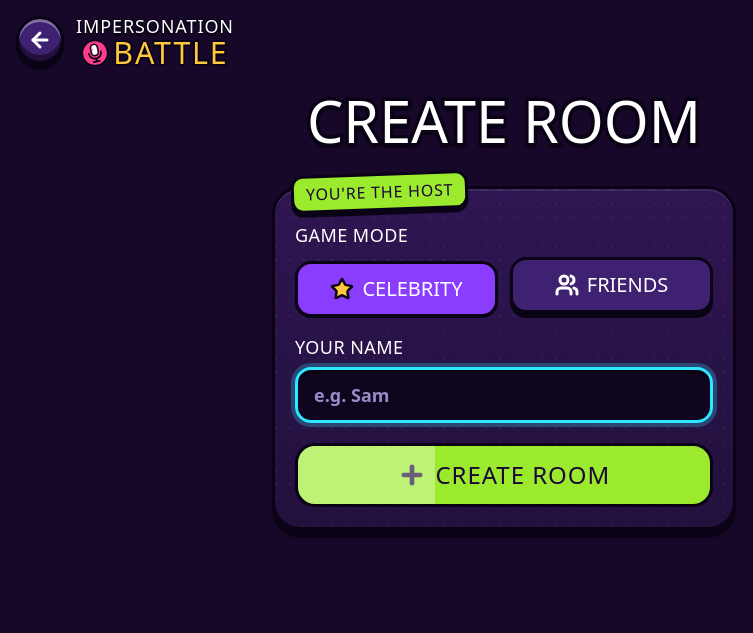
Test: CreateRoomPage › uses the mode picked on the main menu, requires a name, then reports server errors
Click the button "Create Room".
click(504, 475)  # box [295,443,713,507]
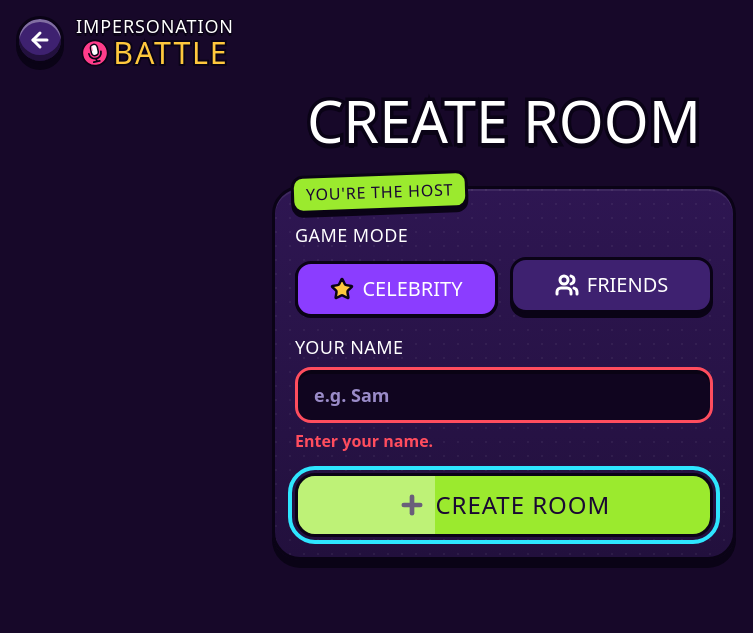
Check: the text "Enter your name." is shown, box [295,430,433,452]
Type "Sam" into the field labelled "Your name".
click(504, 395); type("Sam")  # box [295,367,713,423]
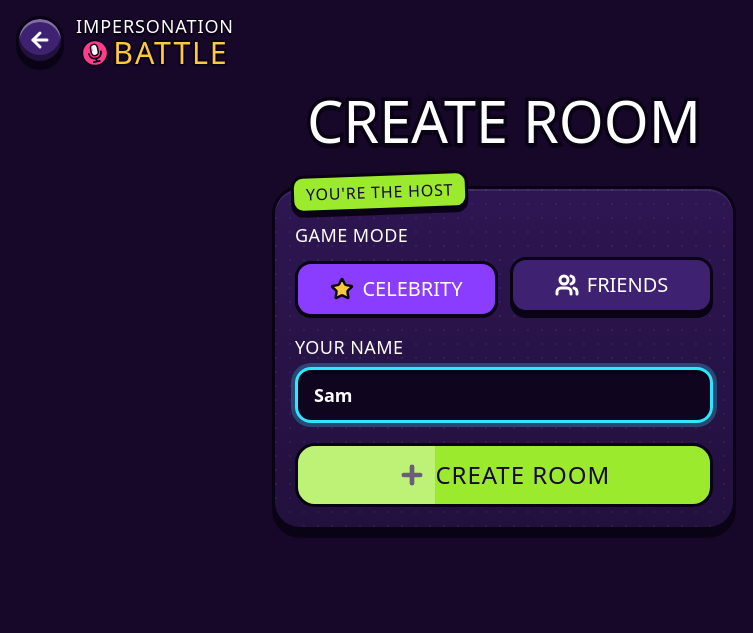
Click the button "Create Room".
click(504, 475)  # box [295,443,713,507]
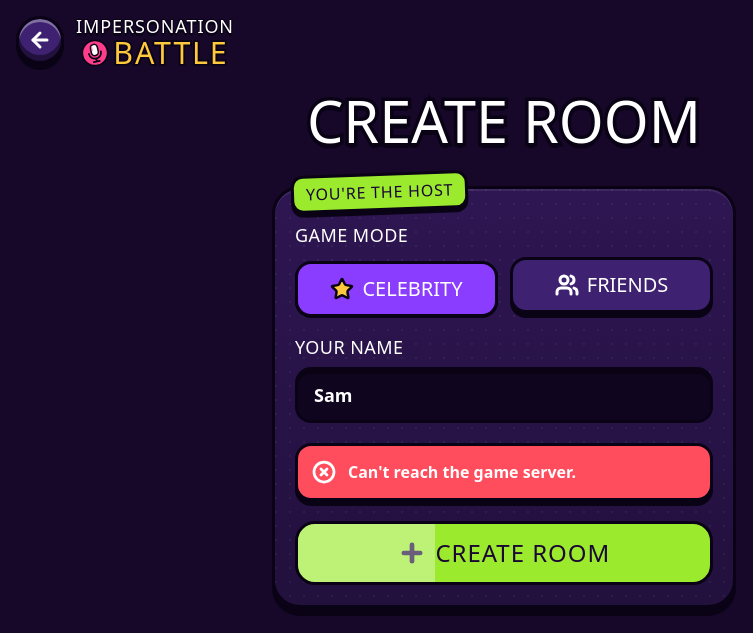
Check: the message reads "Can't reach the game server.", box [348,461,576,483]
